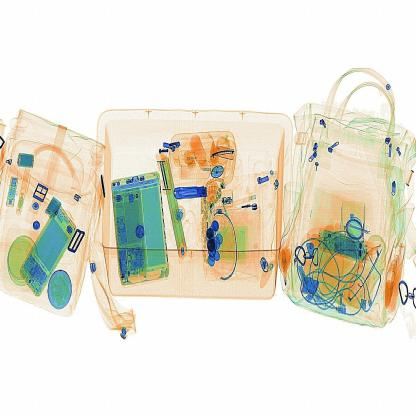knife: (162, 181, 213, 211)
